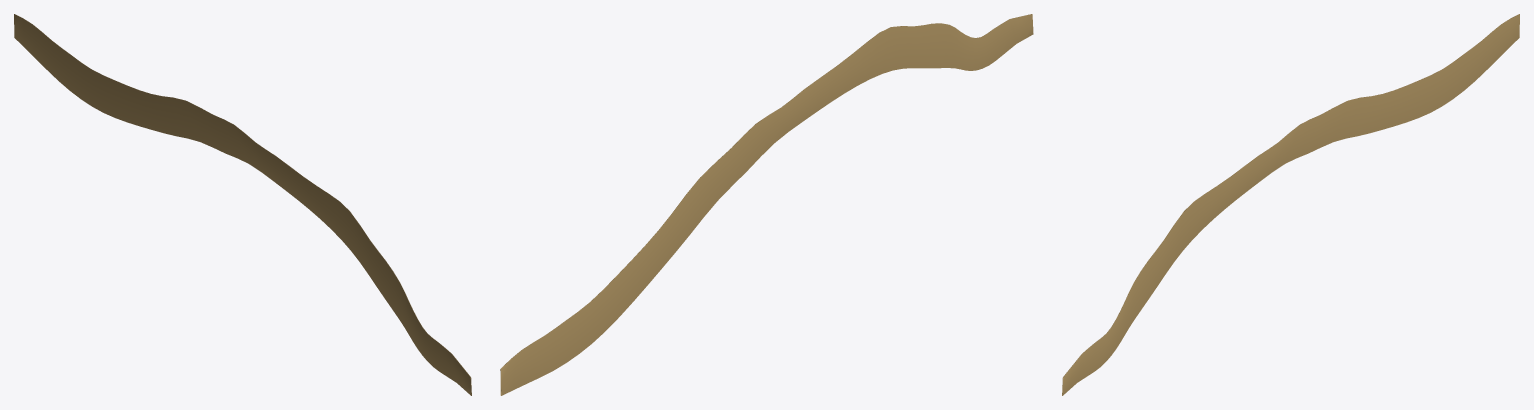
3 views of the same model, side by side, from view 1: azimuth 30°, elevation 25°; view 2: azimuth 150°, elevation 25°; view 3: azimuth 330°, elevation 25° (orthographic). The views are drawn at different scales.
Visible parts, largest first — view 1: 棘间韧带; view 2: 棘间韧带; view 3: 棘间韧带.
Part boxes in pixels (x1=…): 棘间韧带: x1=14, y1=14, x2=471, y2=395; 棘间韧带: x1=500, y1=14, x2=1033, y2=395; 棘间韧带: x1=1062, y1=14, x2=1519, y2=395.
Bounding box in the file's own units: 0.000739 × 0.1009 × 0.8563.
